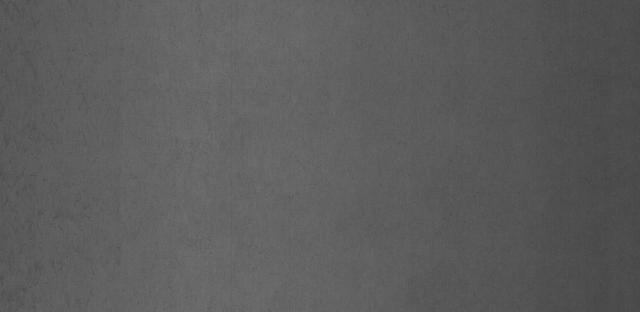silk_spot: (24, 156, 110, 279)
